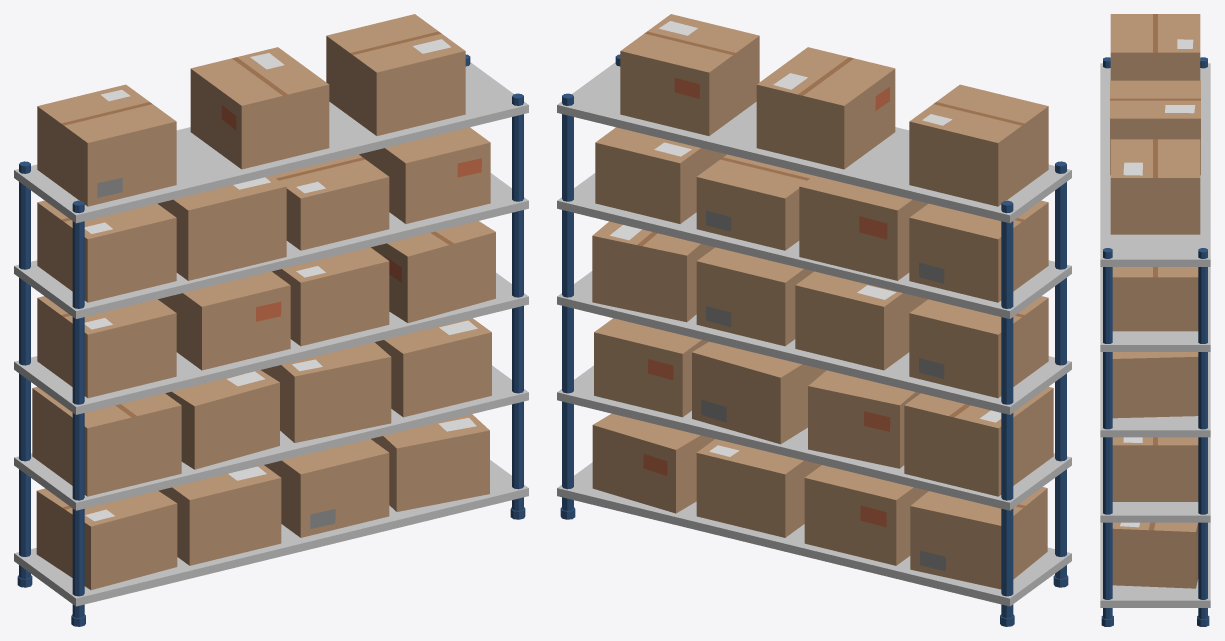
File: SM_Props_Rack_03.glb
The picture shows the model from 3 angles, left to right: view 1: azimuth 30°, elevation 25°; view 2: azimuth 150°, elevation 25°; view 3: azimuth 270°, elevation 25°; orthographic projection. The views are drawn at different scales.
Visible parts, largest first — view 1: SM_Props_Rack_03; view 2: SM_Props_Rack_03; view 3: SM_Props_Rack_03.
Part boxes in pixels (left/top/right/bottom): SM_Props_Rack_03: left=14, top=14, right=528, bottom=626; SM_Props_Rack_03: left=557, top=14, right=1071, bottom=626; SM_Props_Rack_03: left=1100, top=14, right=1210, bottom=626.
Size of the model in its own units: 2.44 by 2.45 by 0.5767.
1 material, 1 textured.
